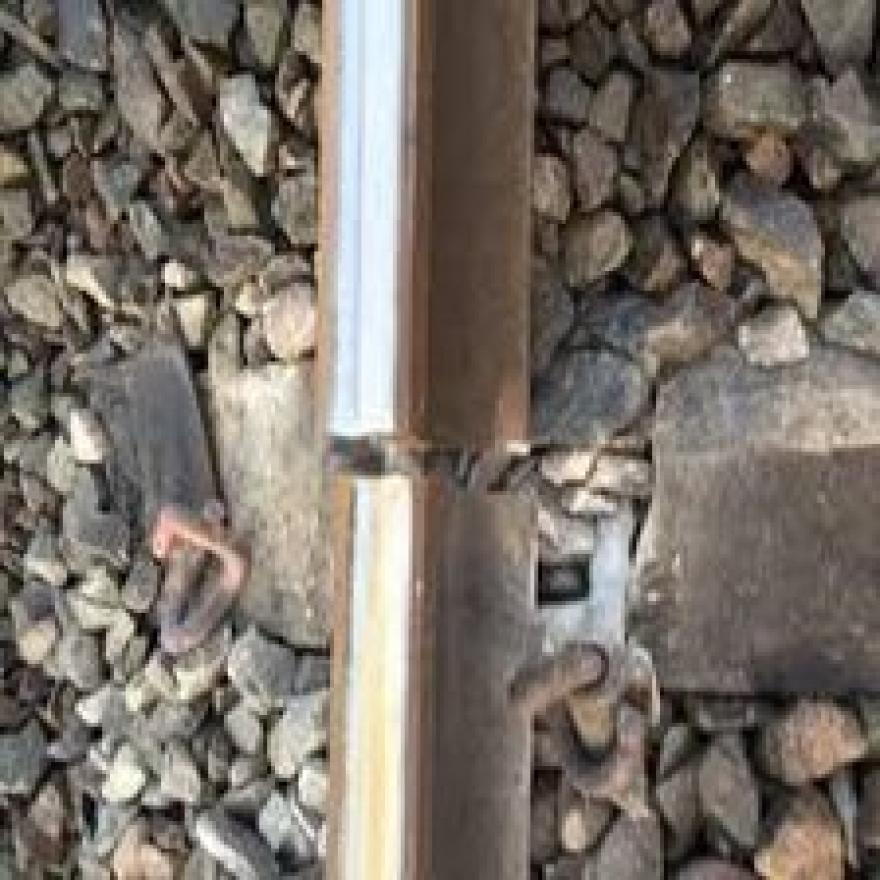railway-gap: (293, 328, 527, 599)
